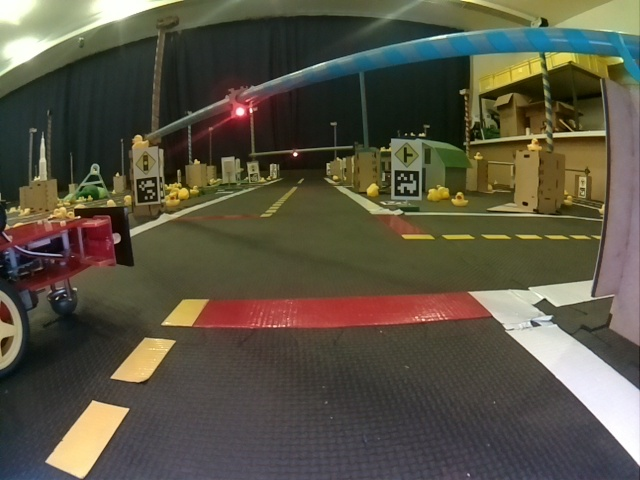Duckie: (452, 192, 468, 206), (527, 138, 540, 151), (367, 183, 379, 195), (427, 189, 440, 200), (132, 136, 147, 145), (168, 194, 179, 206), (190, 185, 199, 194), (180, 188, 188, 198), (475, 152, 483, 160)
Duckiebot: (2, 207, 134, 364)
Intersection sign: (393, 142, 419, 168)
QR code: (393, 171, 421, 198), (136, 177, 159, 203)
Signal sign: (134, 151, 158, 174)
Traffic light: (226, 88, 256, 118)
